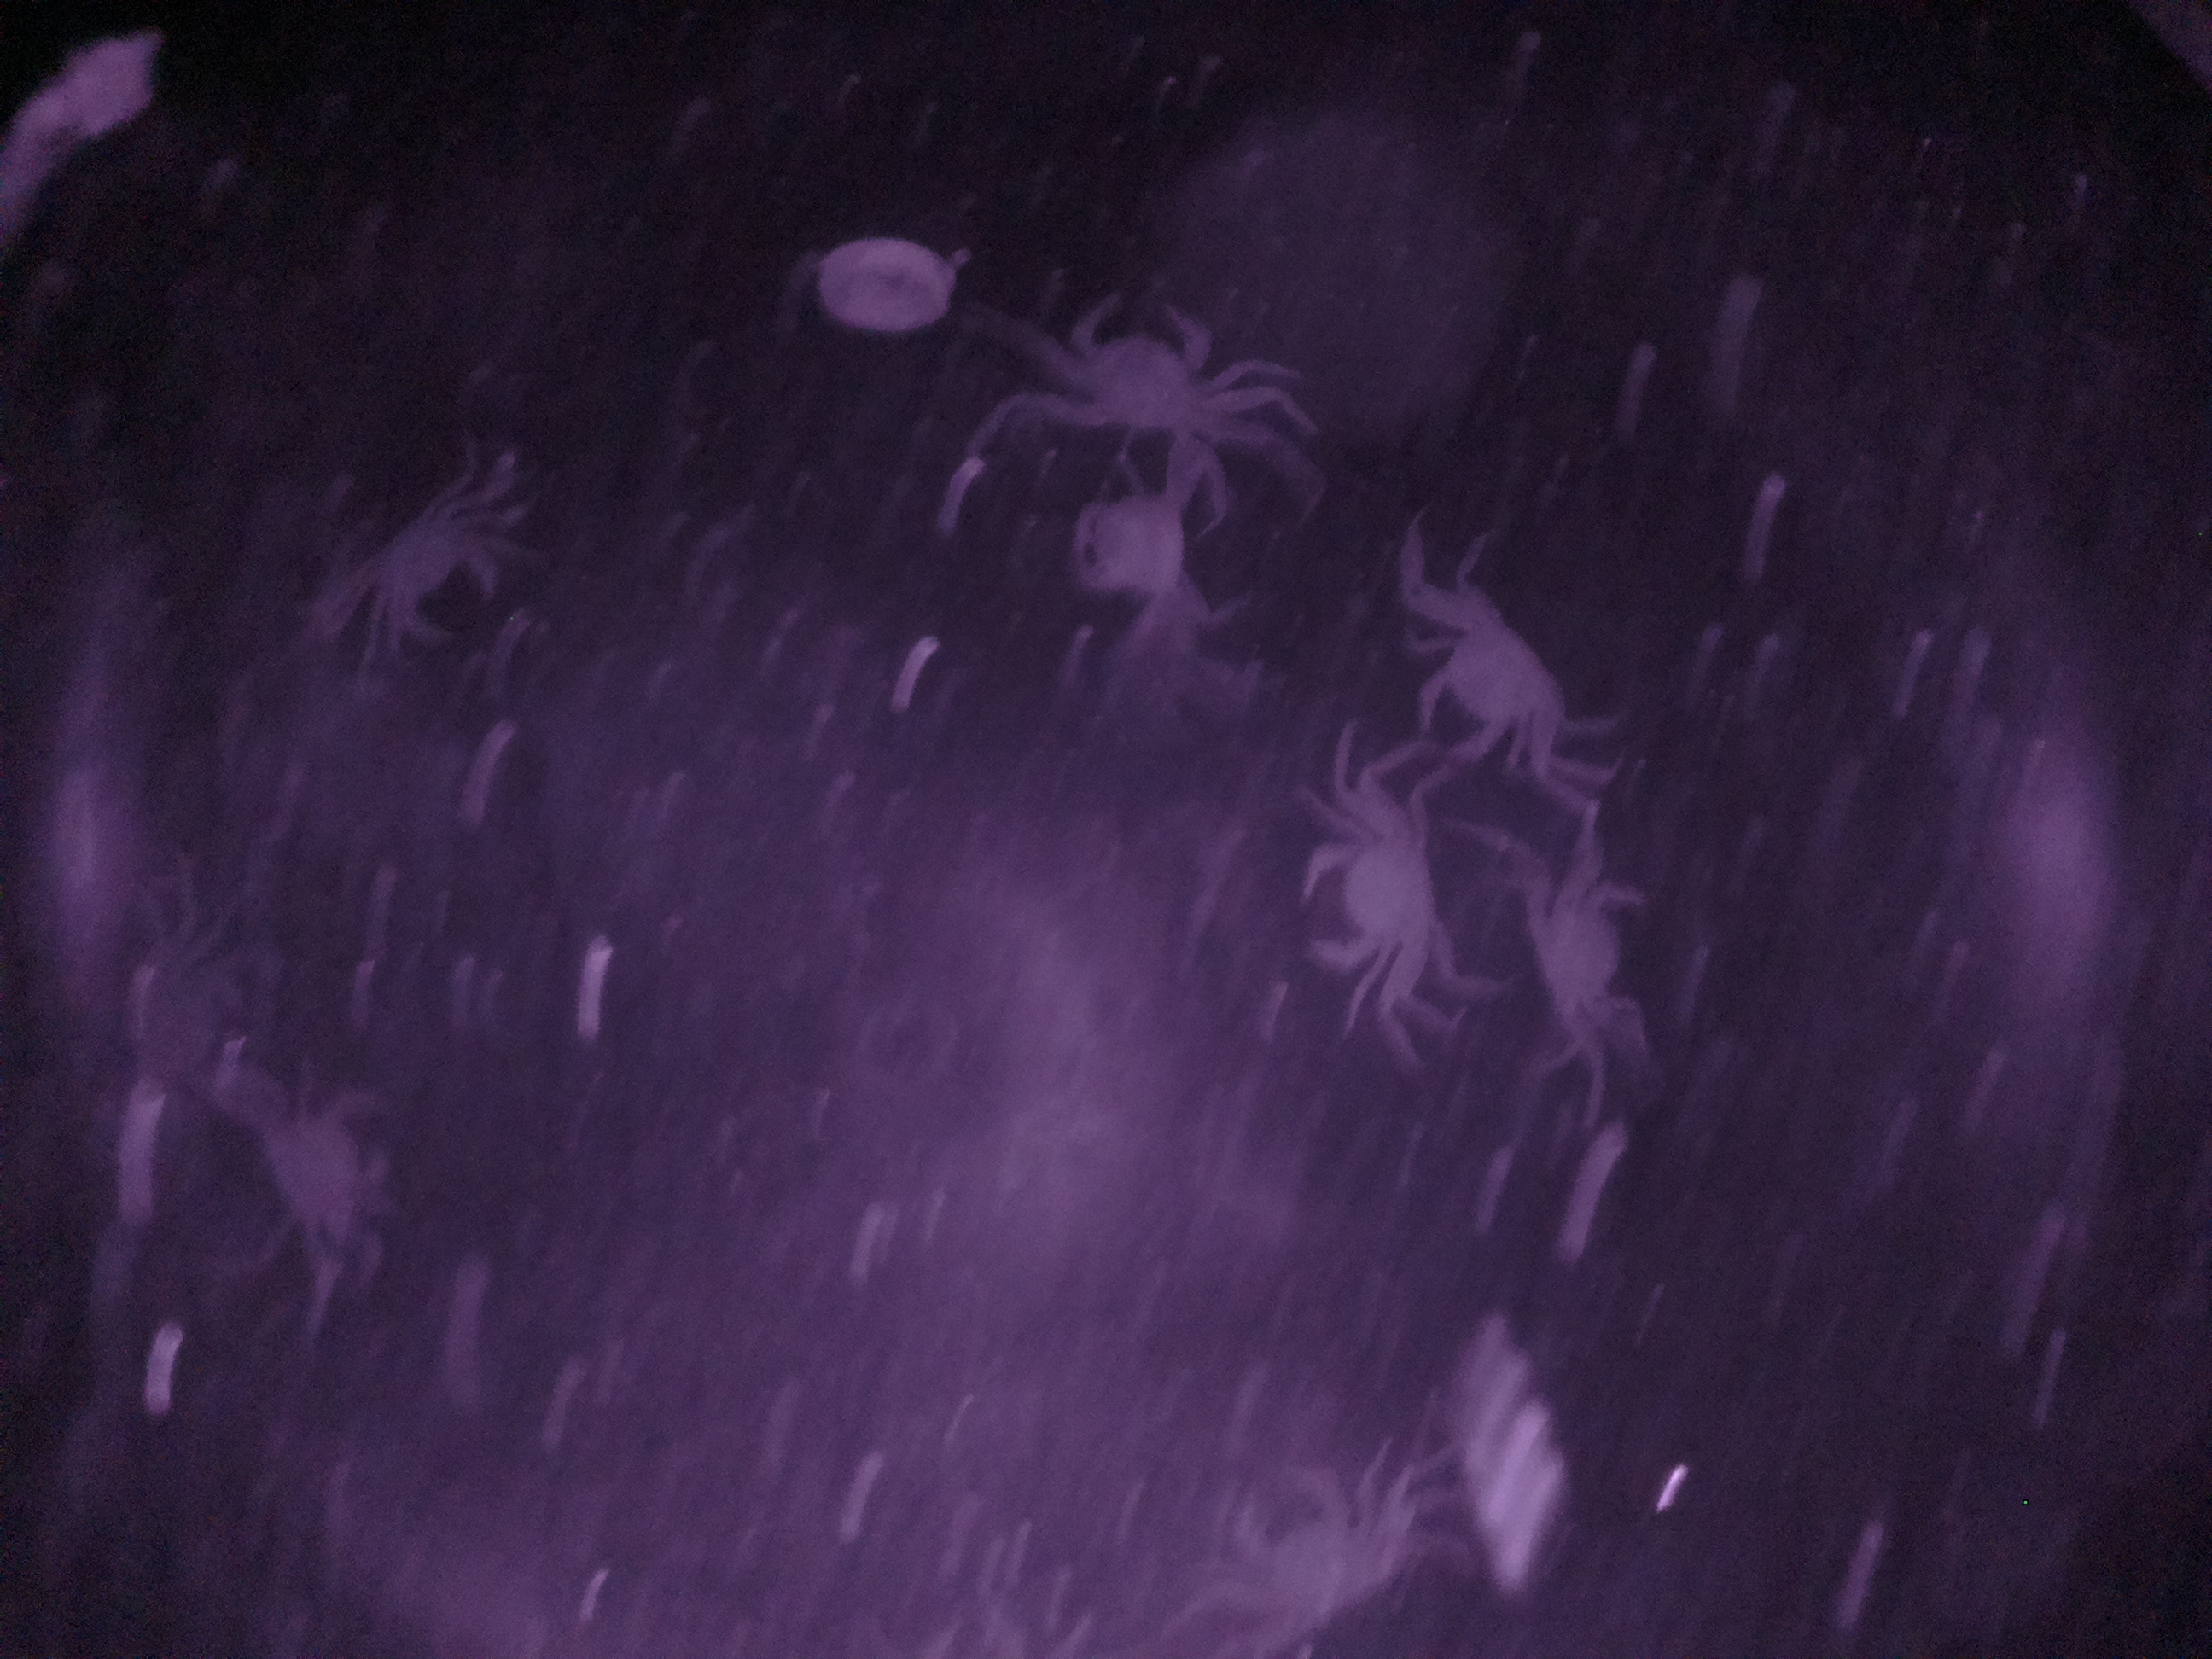Crab: (1035, 270, 1251, 469), (1282, 782, 1458, 1004), (1383, 594, 1571, 784)
